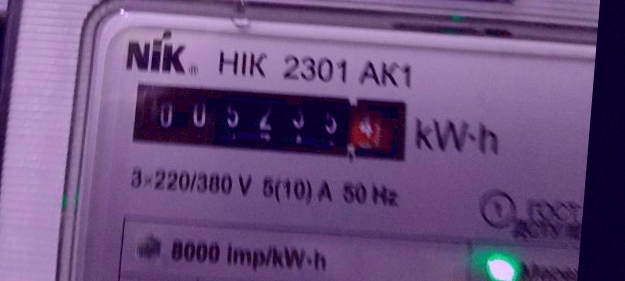0: (188, 96, 210, 130), (155, 97, 176, 130)
2: (253, 98, 277, 134)
3: (286, 99, 312, 134)
4: (354, 104, 379, 142)
5: (319, 101, 344, 138), (222, 97, 243, 131)
screen: (114, 65, 422, 176)
